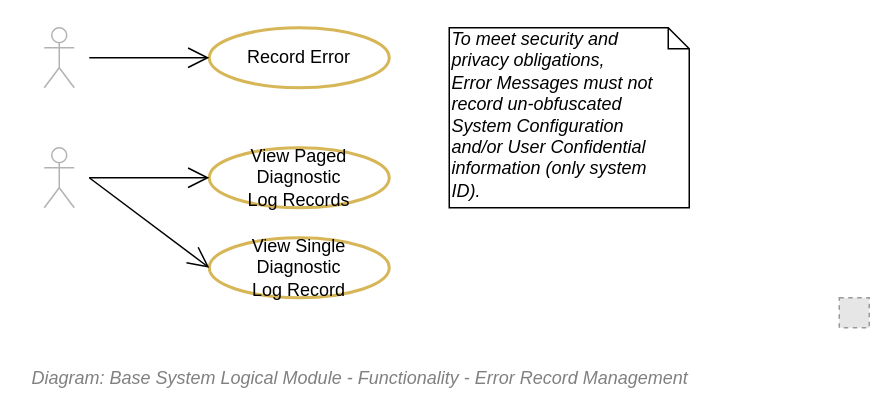
Image size: 896x420. Some labels were removed from this diagram. Grey dashed boxes stand in for pictures. The box of each missing label's shape, as (x1, y1, x2, y2) in pixels:
Actor: (43, 146, 74, 208)
Daemon: (43, 26, 74, 88)
